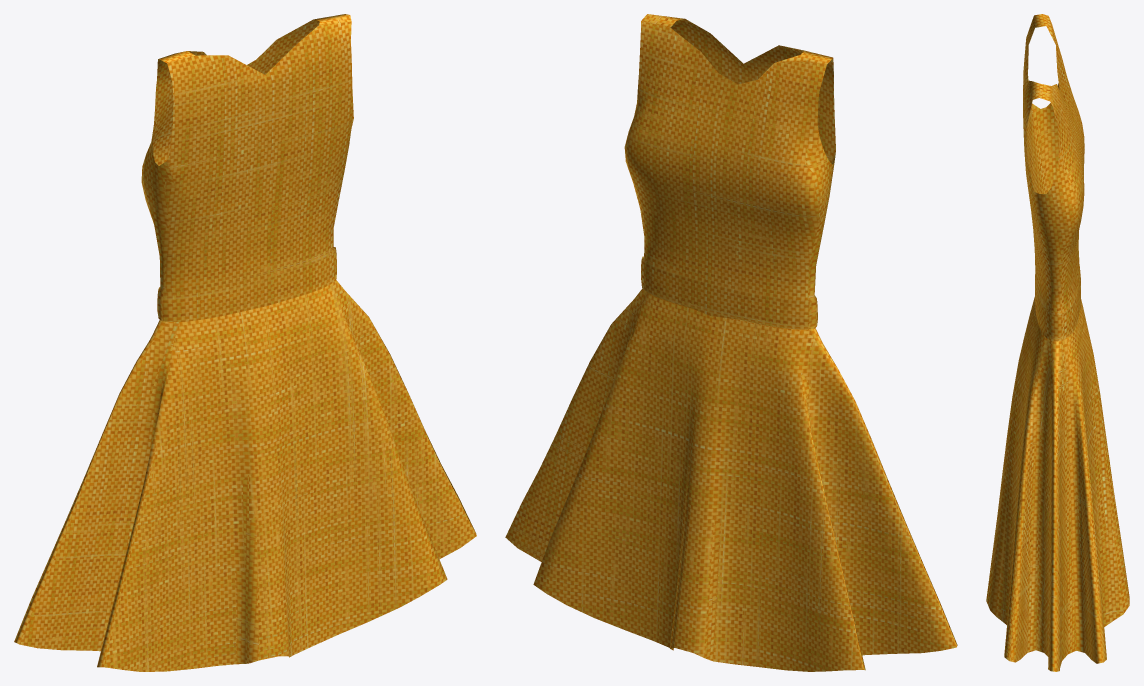
File: yifu08_2.fbx
3 renders of one model, left to right at view 1: azimuth 30°, elevation 25°; view 2: azimuth 150°, elevation 25°; view 3: azimuth 270°, elevation 25°, orthographic. The views are drawn at different scales.
Visible parts, largest first — view 1: yifu08_2; view 2: yifu08_2; view 3: yifu08_2.
Part boxes in pixels (left/top/right/bottom): yifu08_2: left=14, top=14, right=476, bottom=671; yifu08_2: left=505, top=14, right=957, bottom=671; yifu08_2: left=986, top=14, right=1129, bottom=671.
Size of the model in its own units: 75.43 by 95.57 by 22.14.
